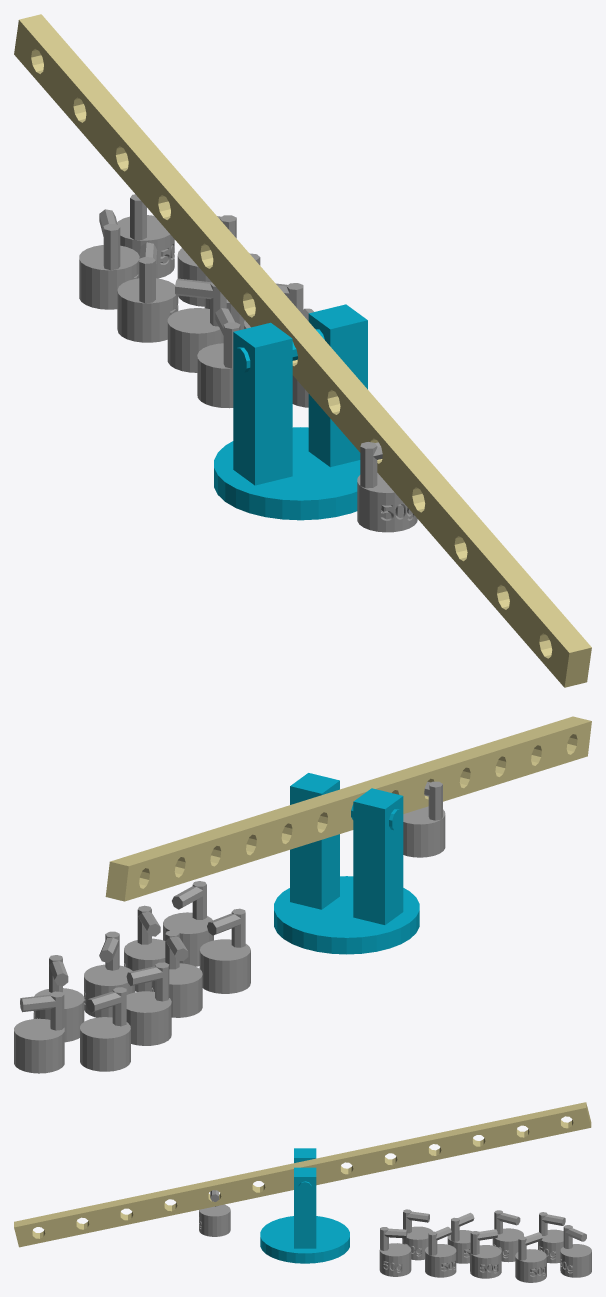
File: seesaw.gltf
3 renders of one model, top to bottom at view 1: azimuth 30°, elevation 25°; view 2: azimuth 150°, elevation 25°; view 3: azimuth 270°, elevation 25°, orthographic. The views are drawn at different scales.
Size of the model in its own units: 0.0601 by 0.0682 by 0.2559.
